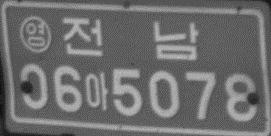0: (147, 69, 180, 119), (18, 62, 49, 109)
5: (112, 68, 142, 116)
6: (52, 65, 82, 113)
7: (183, 69, 216, 119)
8: (223, 72, 257, 122)
아: (84, 71, 108, 110)
영: (18, 15, 52, 54)
전남_D: (62, 16, 198, 61)
